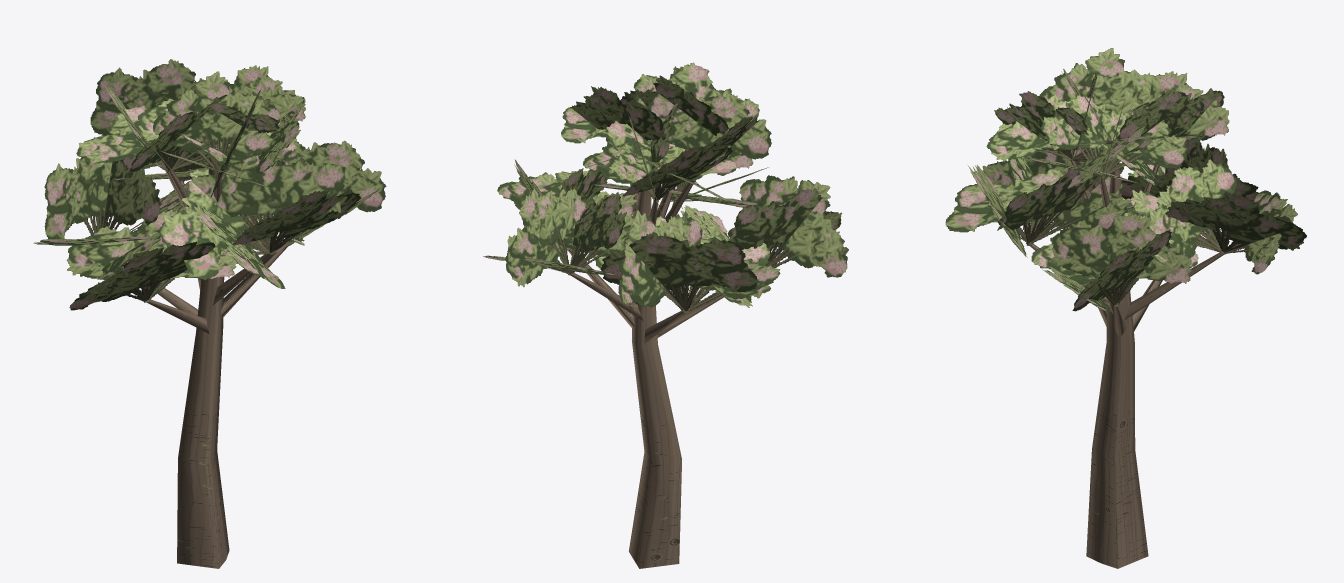
File: meadow-blossom-mobile.glb
3 views of the same model, side by side, from view 1: azimuth 30°, elevation 25°; view 2: azimuth 150°, elevation 25°; view 3: azimuth 270°, elevation 25° (orthographic). The views are drawn at different scales.
Parts seen in each view (by area): view 1: Meadow blossom mobile v3 runtime; view 2: Meadow blossom mobile v3 runtime; view 3: Meadow blossom mobile v3 runtime.
Boxes of the visible parts, <box> form: Meadow blossom mobile v3 runtime: <box>33,59,386,568</box>; Meadow blossom mobile v3 runtime: <box>483,62,848,568</box>; Meadow blossom mobile v3 runtime: <box>945,48,1306,568</box>.
Bounding box in the file's own units: 5.72 × 7.33 × 5.19.
Materials: 1 (1 with a texture image).
